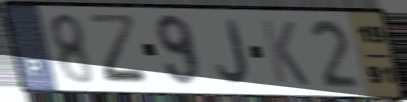2: (308, 17, 364, 91)
8: (46, 11, 96, 87)
9: (152, 12, 203, 91)
J: (214, 18, 251, 86)
K: (258, 18, 313, 89)
Z: (85, 12, 154, 88)
